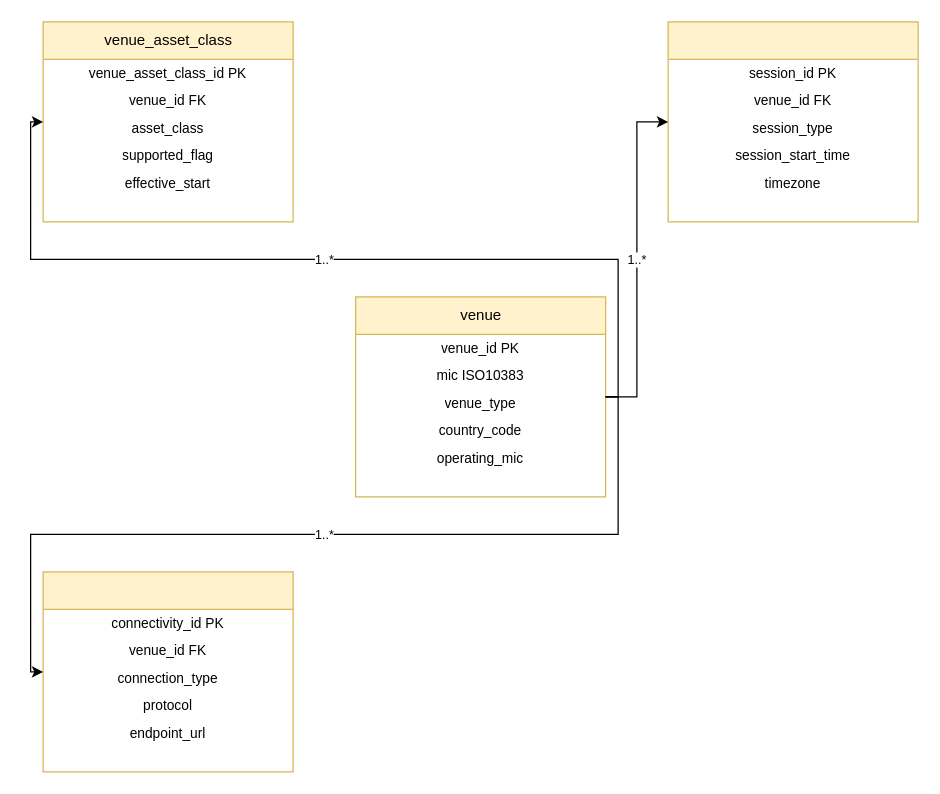
Image size: 940x794. Some labels were removed from this diagram. Each missing label, with the box of its shape:
venue_connectivity: (42, 571, 293, 772)
venue_trading_session: (667, 21, 918, 222)
